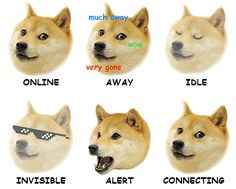doge: (84, 102, 152, 176), (9, 2, 74, 77), (87, 1, 151, 77), (164, 101, 229, 175), (10, 99, 72, 175), (165, 1, 228, 75)
